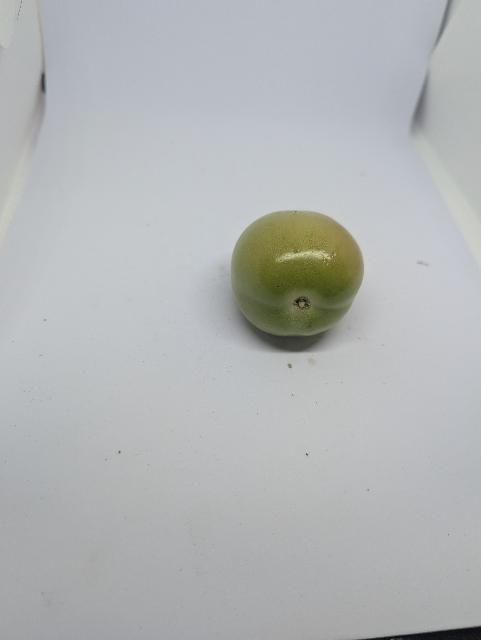green: (228, 208, 367, 342)
